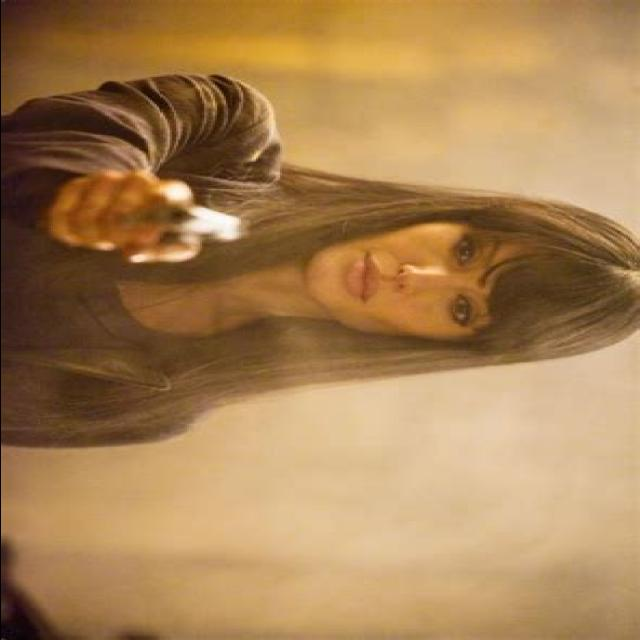weapons: (86, 176, 270, 266)
